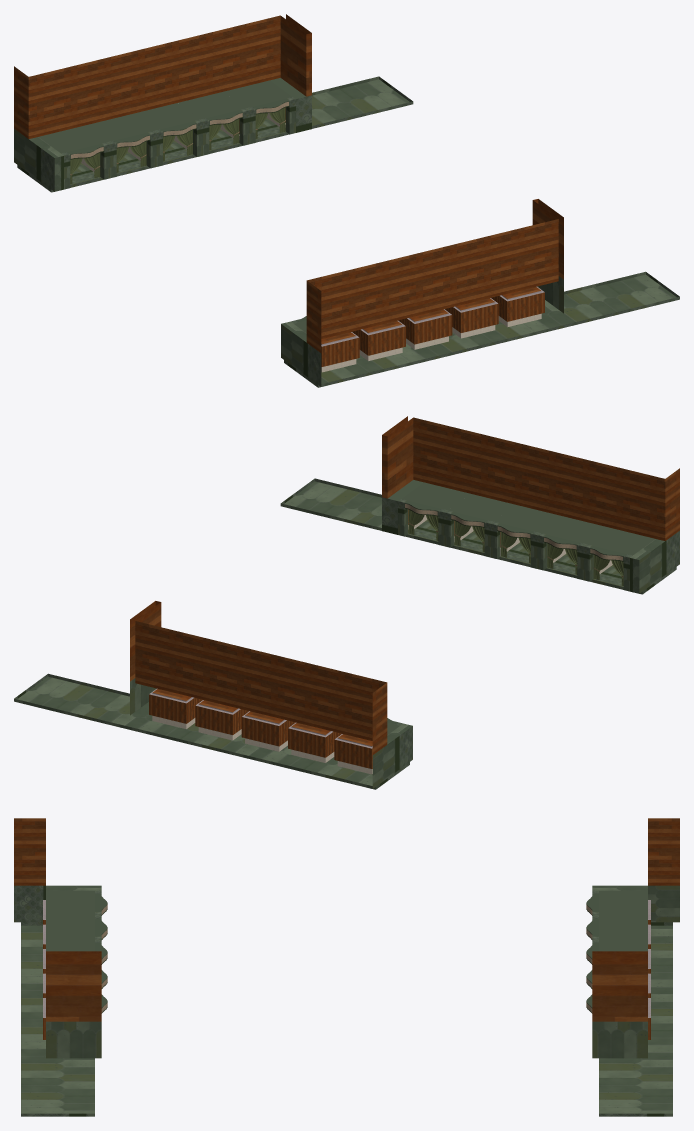
The model's file is Booths.fbx.
The picture shows the model from 3 angles, top to bottom: view 1: azimuth 30°, elevation 25°; view 2: azimuth 150°, elevation 25°; view 3: azimuth 270°, elevation 25°; orthographic projection. The views are drawn at different scales.
Parts seen in each view (by area): view 1: Pilars.015; view 2: Pilars.015; view 3: Pilars.015.
Part boxes in pixels (<box>): Pilars.015: <box>14,14,679,387</box>; Pilars.015: <box>14,416,679,789</box>; Pilars.015: <box>14,818,679,1116</box>.
Bounding box in the file's own units: 12867 × 3367 × 18941.
